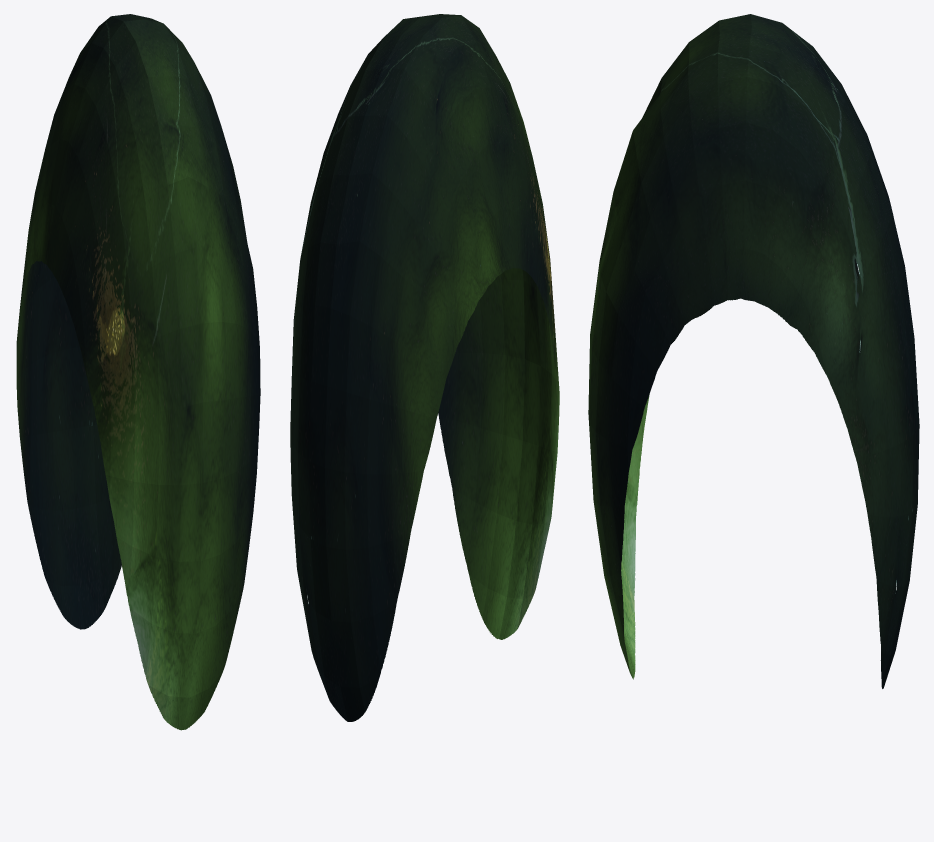
File: rain.obj
3 views of the same model, side by side, from view 1: azimuth 30°, elevation 25°; view 2: azimuth 150°, elevation 25°; view 3: azimuth 270°, elevation 25° (orthographic).
Visible parts, largest first — view 1: Sphere; view 2: Sphere; view 3: Sphere.
Boxes of the visible parts, x1,y1,x2,y2 form: Sphere: [16, 14, 260, 730]; Sphere: [290, 14, 559, 721]; Sphere: [588, 14, 919, 688].
Size of the model in its own units: 0.0495 by 0.1928 by 0.0718.
1 material, 1 textured.
